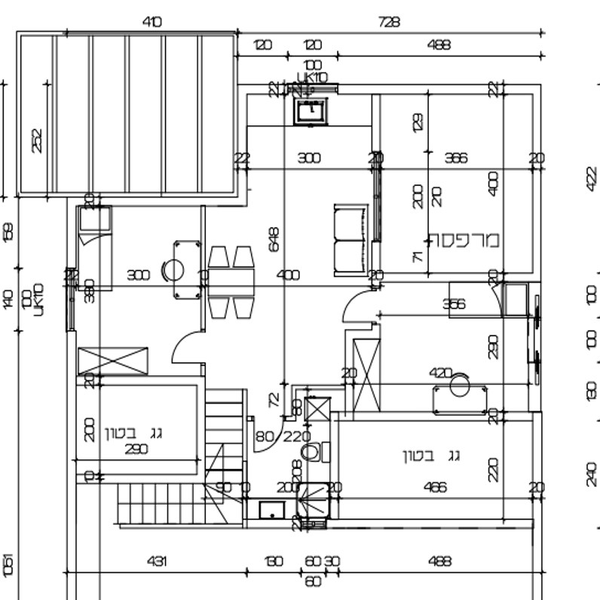door: (169, 323, 209, 368), (250, 412, 288, 458), (343, 293, 377, 324)
room: (368, 83, 545, 286), (66, 194, 210, 385), (326, 411, 547, 527), (67, 385, 207, 480)
wall: (337, 516, 533, 531), (66, 331, 77, 574), (533, 414, 545, 600), (348, 83, 541, 94), (77, 373, 204, 389), (342, 84, 542, 94), (340, 413, 533, 423), (75, 472, 195, 487), (379, 272, 535, 283), (328, 410, 341, 523), (238, 84, 250, 203), (534, 97, 541, 286), (194, 387, 207, 486), (70, 200, 248, 207), (373, 94, 383, 150)
window: (373, 154, 387, 241), (62, 270, 81, 328), (288, 81, 339, 97), (301, 521, 327, 533)
